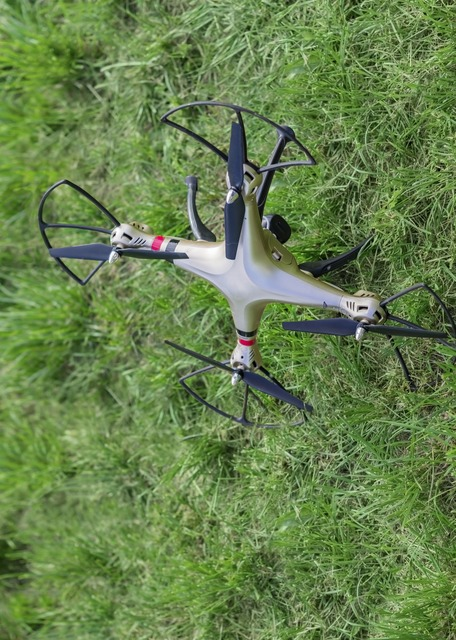drone: (37, 100, 456, 429)
